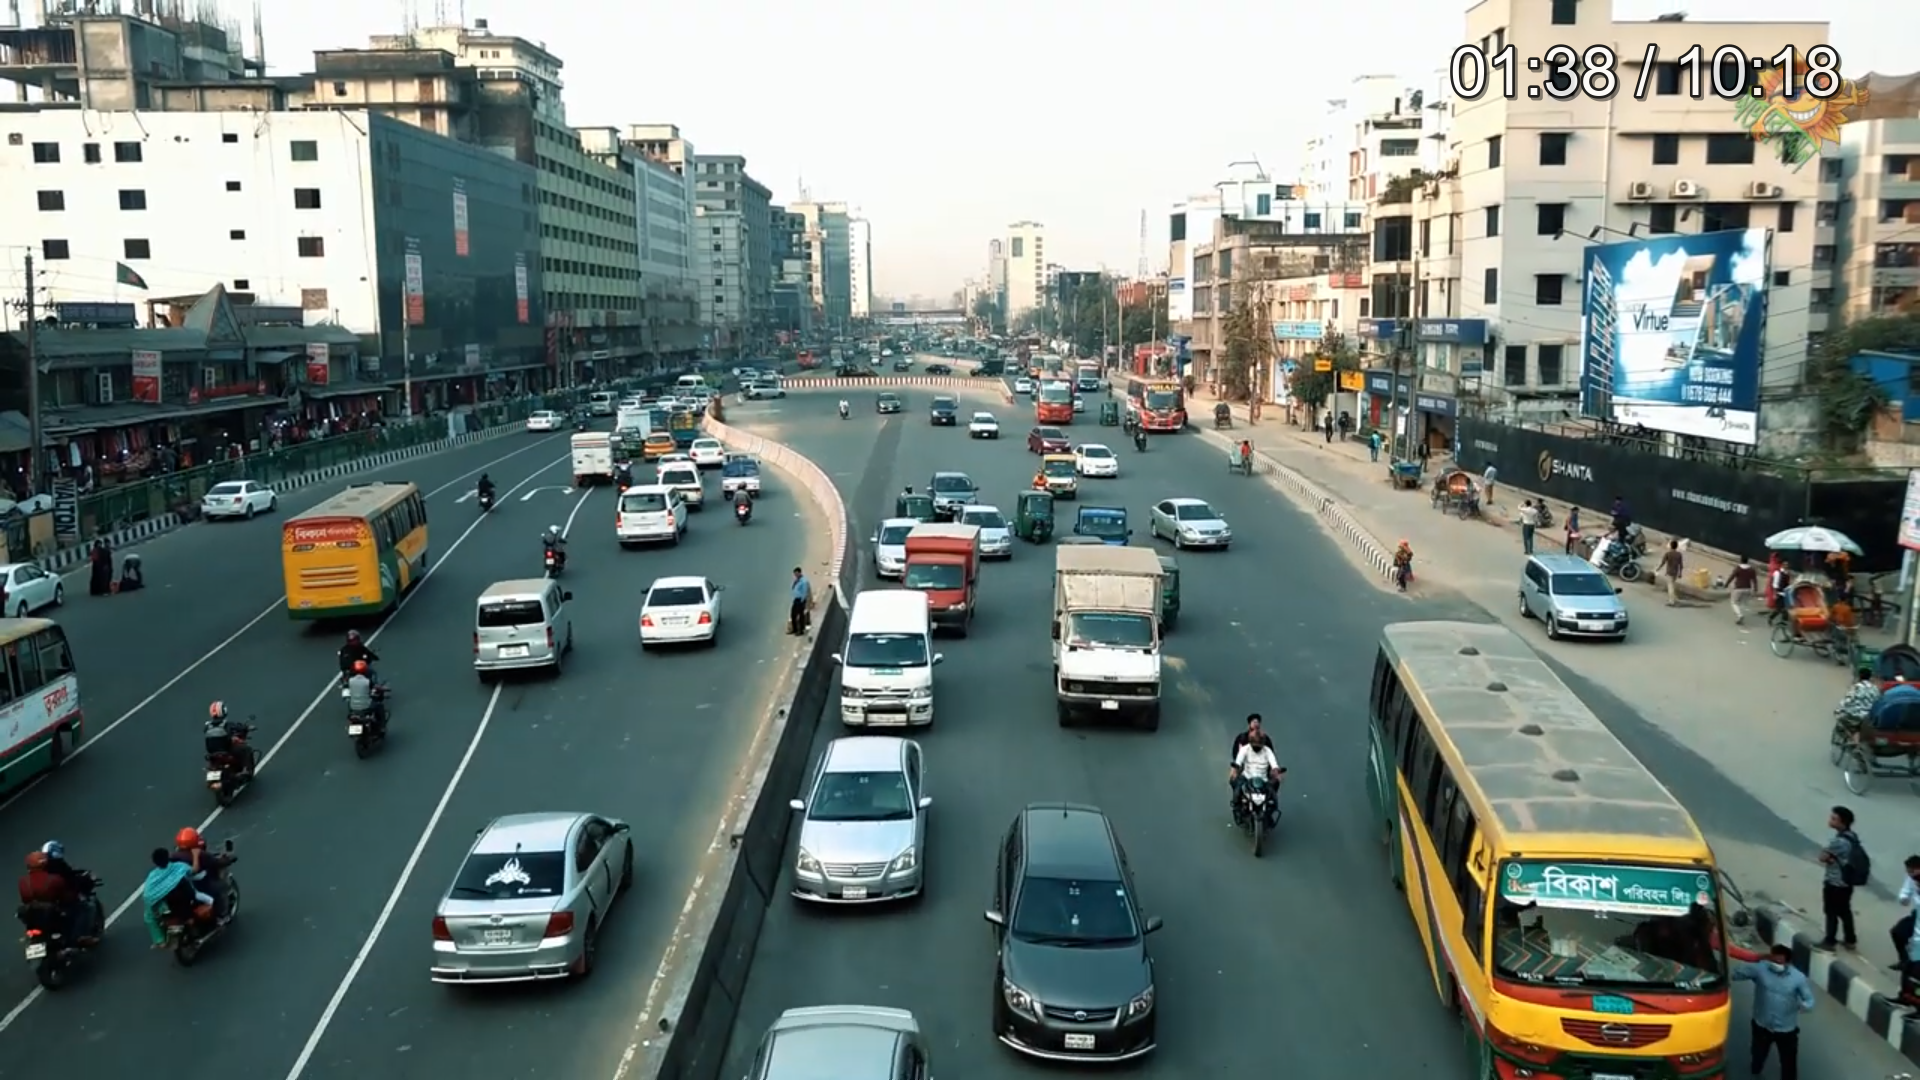HeavyVehicle: (1362, 611, 1743, 1069), (1048, 547, 1164, 736)
LightVehicle: (985, 793, 1168, 1069), (426, 800, 640, 996), (793, 740, 935, 913), (1518, 550, 1636, 644), (469, 583, 578, 682), (629, 567, 727, 658)
MotorCycle: (11, 833, 116, 994), (142, 832, 251, 967), (1222, 708, 1288, 862), (195, 694, 260, 811), (343, 662, 394, 771), (541, 520, 566, 576), (472, 467, 498, 517), (732, 483, 757, 531)
